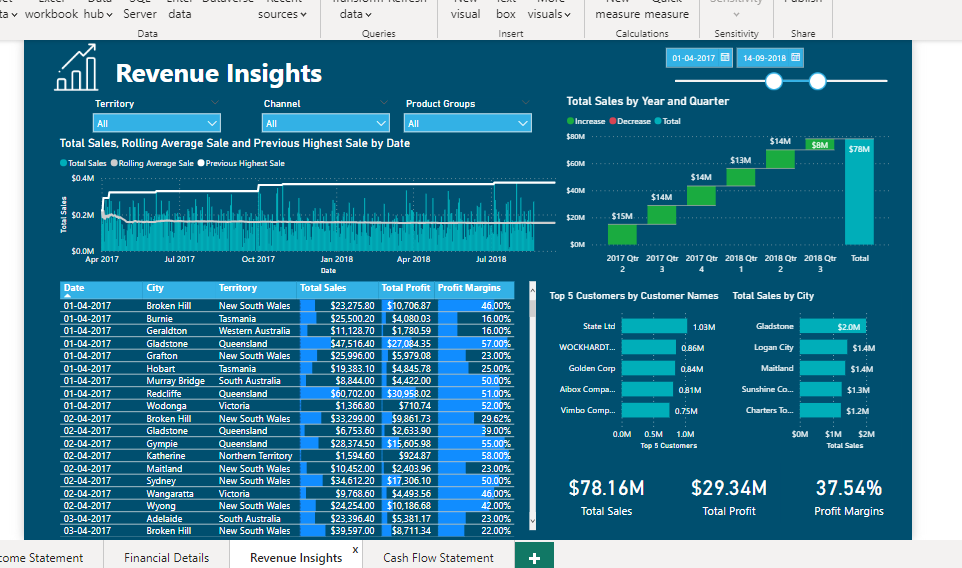

The page's visual inventory and layout, read from the dashboard file:
{"tool":"powerbi","page":{"name":"Revenue Insights","canvas":[1280,720],"ordinal":3},"visuals":[{"type":"slicer","fields":{"Values":["Dates.Date"]},"box":[911.5,1.4,352.8,76.3],"z":0},{"type":"slicer","fields":{"Values":["Sales.Channel"]},"box":[332.6,77.8,204.5,60.5],"z":1000},{"type":"lineStackedColumnComboChart","fields":{"Category":["Dates.Date"],"Y":["Key Measures.Total Sales"],"Y2":["Key Measures.Rolling Average Sale","Key Measures.Previous Highest Sale"]},"box":[46.1,138.2,747.4,204.5],"z":2000},{"type":"waterfallChart","fields":{"Category":["Dates.Date.Variation.Date Hierarchy.Year","Dates.Date.Variation.Date Hierarchy.Quarter","Dates.Date.Variation.Date Hierarchy.Month","Dates.Date.Variation.Date Hierarchy.Day"],"Y":["Key Measures.Total Sales"]},"box":[776.2,77.8,476.6,267.8],"z":3000},{"type":"tableEx","fields":{"Values":["Dates.Date","Region.City","Region.Territory","Key Measures.Total Sales","Key Measures.Total Profit","Key Measures.Profit Margins"]},"box":[46.1,342.7,695.5,377.3],"z":4000},{"type":"clusteredBarChart","fields":{"Category":["Customers.Customer Names"],"Y":["Accounts Receivable.Top 5 Customers"]},"box":[751.7,360,263.5,234.7],"z":5000},{"type":"clusteredBarChart","fields":{"Y":["Key Measures.Total Sales"],"Category":["Region.City"]},"box":[1015.2,360,249.1,234.7],"z":6000},{"type":"card","fields":{"Values":["Key Measures.Total Sales"]},"box":[766.1,609.1,145.4,86.4],"z":7000},{"type":"card","fields":{"Values":["Key Measures.Total Profit"]},"box":[941.8,609.1,146.9,86.4],"z":8000},{"type":"card","fields":{"Values":["Key Measures.Profit Margins"]},"box":[1111.7,609.1,152.6,86.4],"z":9000},{"type":"textbox","box":[113.8,15.8,332.6,61.9],"z":10000},{"type":"image","box":[36,0,77.8,77.8],"z":11000},{"type":"slicer","fields":{"Values":["Region.Territory"]},"box":[89.3,77.8,204.5,60.5],"z":12000},{"type":"slicer","fields":{"Values":["Sales.Product Description Index"]},"box":[537.1,77.8,204.5,60.5],"z":13000}]}

Visuals, with their boxes on the page's 1280x720 design canvas (x1, y1, x2, y2). These are canvas units, not pixel positions in the 962x568 screenshot, which may show the page scaled, cropped or inside an application window:
slicer - Dates.Date: BBox(912, 1, 1264, 78)
slicer - Sales.Channel: BBox(333, 78, 537, 138)
lineStackedColumnComboChart - Dates.Date x Key Measures.Total Sales: BBox(46, 138, 794, 343)
waterfallChart - Dates.Date.Variation.Date Hierarchy.Year x Dates.Date.Variation.Date Hierarchy.Quarter: BBox(776, 78, 1253, 346)
tableEx - Dates.Date x Region.City: BBox(46, 343, 742, 720)
clusteredBarChart - Customers.Customer Names x Accounts Receivable.Top 5 Customers: BBox(752, 360, 1015, 595)
clusteredBarChart - Key Measures.Total Sales x Region.City: BBox(1015, 360, 1264, 595)
card - Key Measures.Total Sales: BBox(766, 609, 912, 696)
card - Key Measures.Total Profit: BBox(942, 609, 1089, 696)
card - Key Measures.Profit Margins: BBox(1112, 609, 1264, 696)
textbox: BBox(114, 16, 446, 78)
image: BBox(36, 0, 114, 78)
slicer - Region.Territory: BBox(89, 78, 294, 138)
slicer - Sales.Product Description Index: BBox(537, 78, 742, 138)
